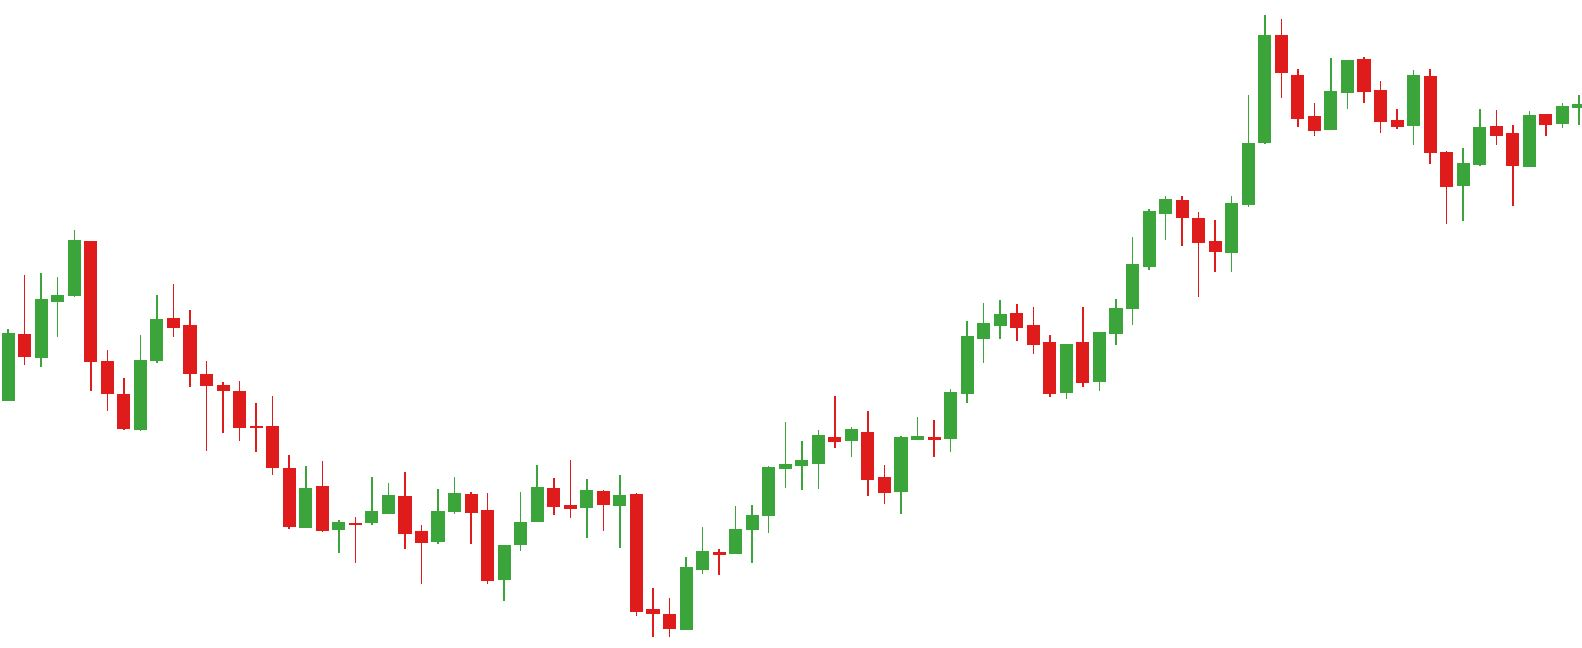buy: (499, 520, 696, 642), (778, 425, 908, 516)
